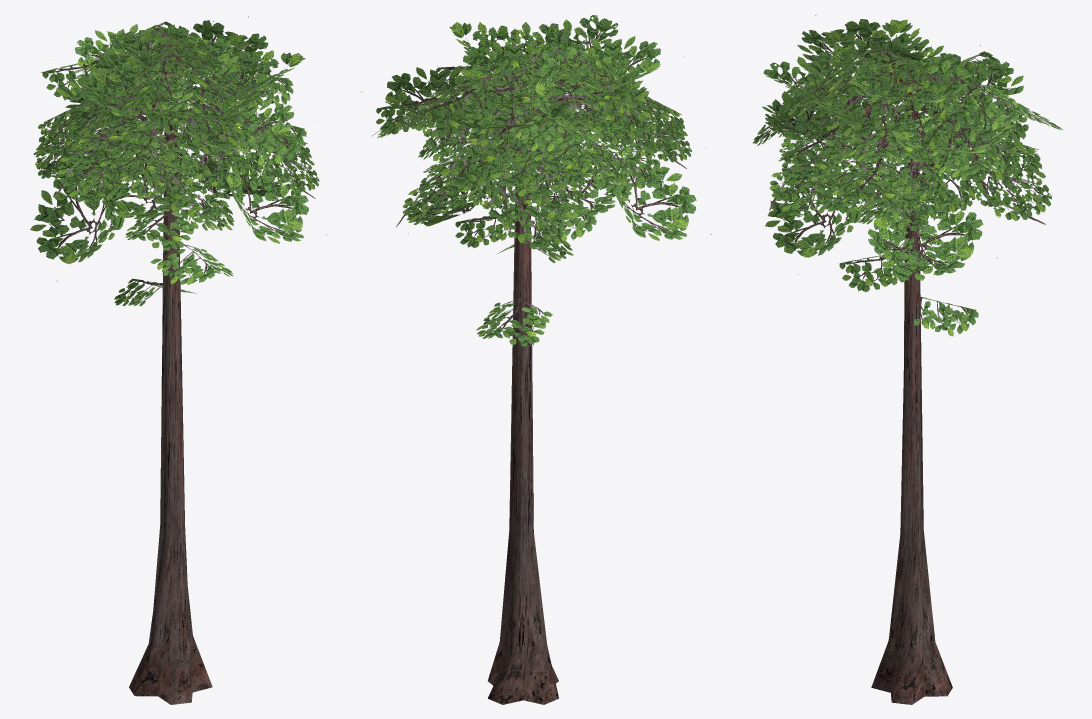
File: teak_v3.glb
3 views of the same model, side by side, from view 1: azimuth 30°, elevation 25°; view 2: azimuth 150°, elevation 25°; view 3: azimuth 270°, elevation 25° (orthographic). The views are drawn at different scales.
Visible parts, largest first — view 1: tree_teak_3, tree_teak_3_leaves; view 2: tree_teak_3, tree_teak_3_leaves; view 3: tree_teak_3, tree_teak_3_leaves.
Boxes of the visible parts, x1,y1,x2,y2 form: tree_teak_3: [30, 16, 326, 704]; tree_teak_3_leaves: [33, 24, 319, 218]; tree_teak_3: [361, 36, 711, 704]; tree_teak_3_leaves: [371, 15, 691, 250]; tree_teak_3: [762, 15, 1029, 704]; tree_teak_3_leaves: [753, 19, 1062, 230].
Bounding box in the file's own units: 17.43 × 38.67 × 18.69.
Materials: 2 (2 with a texture image).
